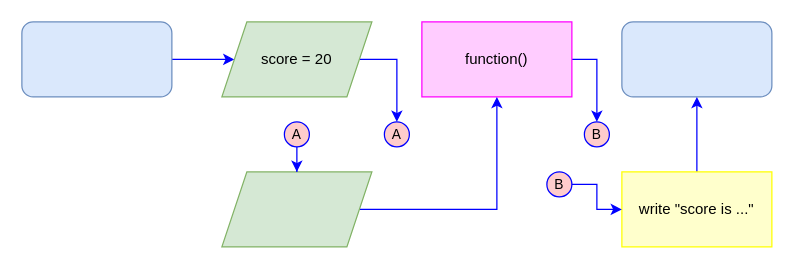
The diagram is 794 pixels wide and 269 high, and some of its shapes have lost their labels. The shapes that lost their labels are listed below. From the top down, each one's box as (x1, y1, x2, y2) in pixels, then its label:
(21, 21, 172, 97): Start
(621, 21, 772, 97): End
(221, 171, 372, 247): cost
